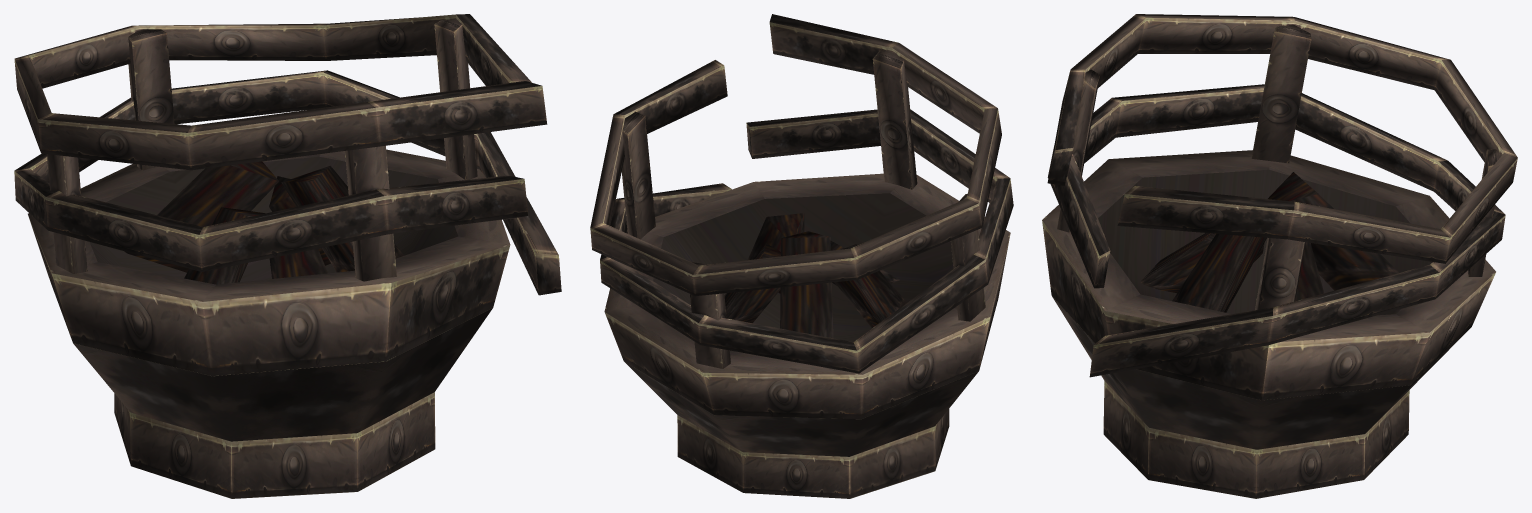
File: dwarvenbrazier02_broken.obj
The picture shows the model from 3 angles, left to right: view 1: azimuth 30°, elevation 25°; view 2: azimuth 150°, elevation 25°; view 3: azimuth 270°, elevation 25°; orthographic projection. The views are drawn at different scales.
Parts seen in each view (by area): view 1: Geoset0, Geoset1, Geoset2; view 2: Geoset0, Geoset1, Geoset2; view 3: Geoset0, Geoset1, Geoset2.
Boxes of the visible parts, <box> form: Geoset0: <box>14,14,510,498</box>; Geoset1: <box>14,14,561,441</box>; Geoset2: <box>124,161,403,284</box>; Geoset0: <box>590,43,1010,498</box>; Geoset1: <box>600,14,1013,456</box>; Geoset2: <box>724,213,906,338</box>; Geoset0: <box>1042,14,1517,498</box>; Geoset1: <box>1042,69,1505,449</box>; Geoset2: <box>1140,172,1399,312</box>.
Bounding box in the file's own units: 1.87 × 1.61 × 1.9.
Materials: 3 (3 with a texture image).
